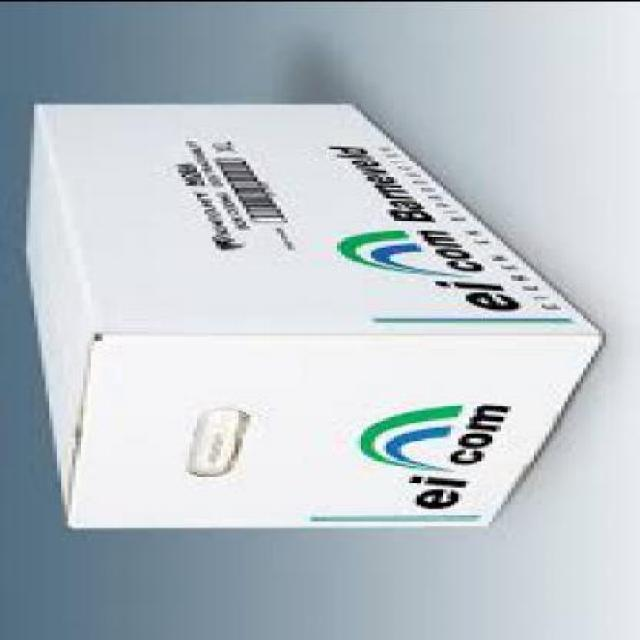box: (23, 106, 602, 534)
